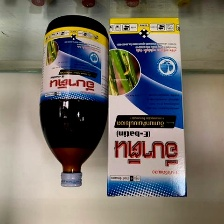carton: (105, 14, 192, 202)
insecticide: (36, 12, 111, 189)
